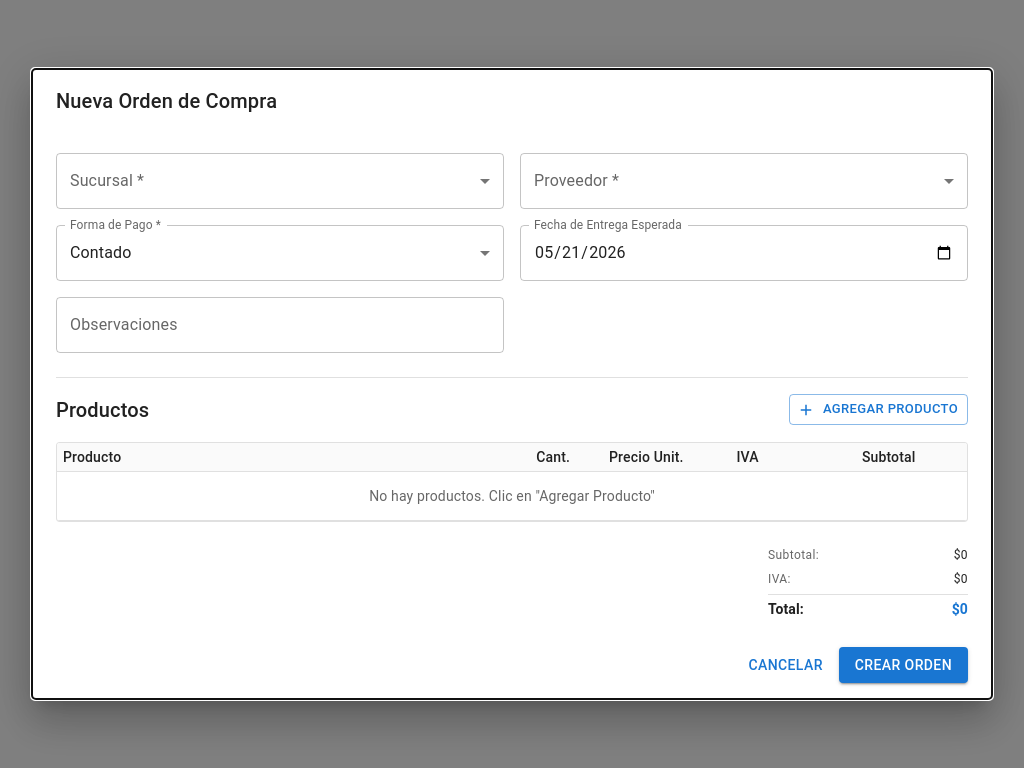
OrdenCompraFormDialog › displays validation errors when submitting empty form
Click the button "Crear Orden": (903, 665) [839,647,968,683]
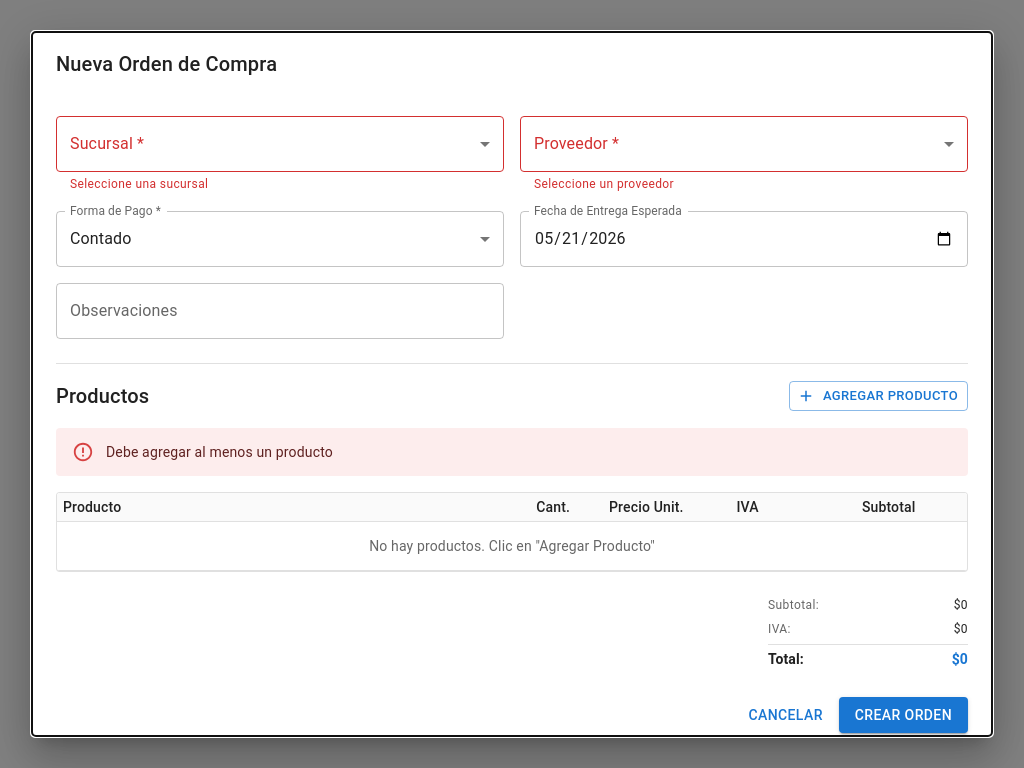
expect the text "Seleccione una sucursal" is shown: met, box [70,177,208,191]
expect the text "Seleccione un proveedor" is shown: met, box [534,177,674,191]
expect the text "Debe agregar al menos un producto" is shown: met, box [106,444,333,460]
